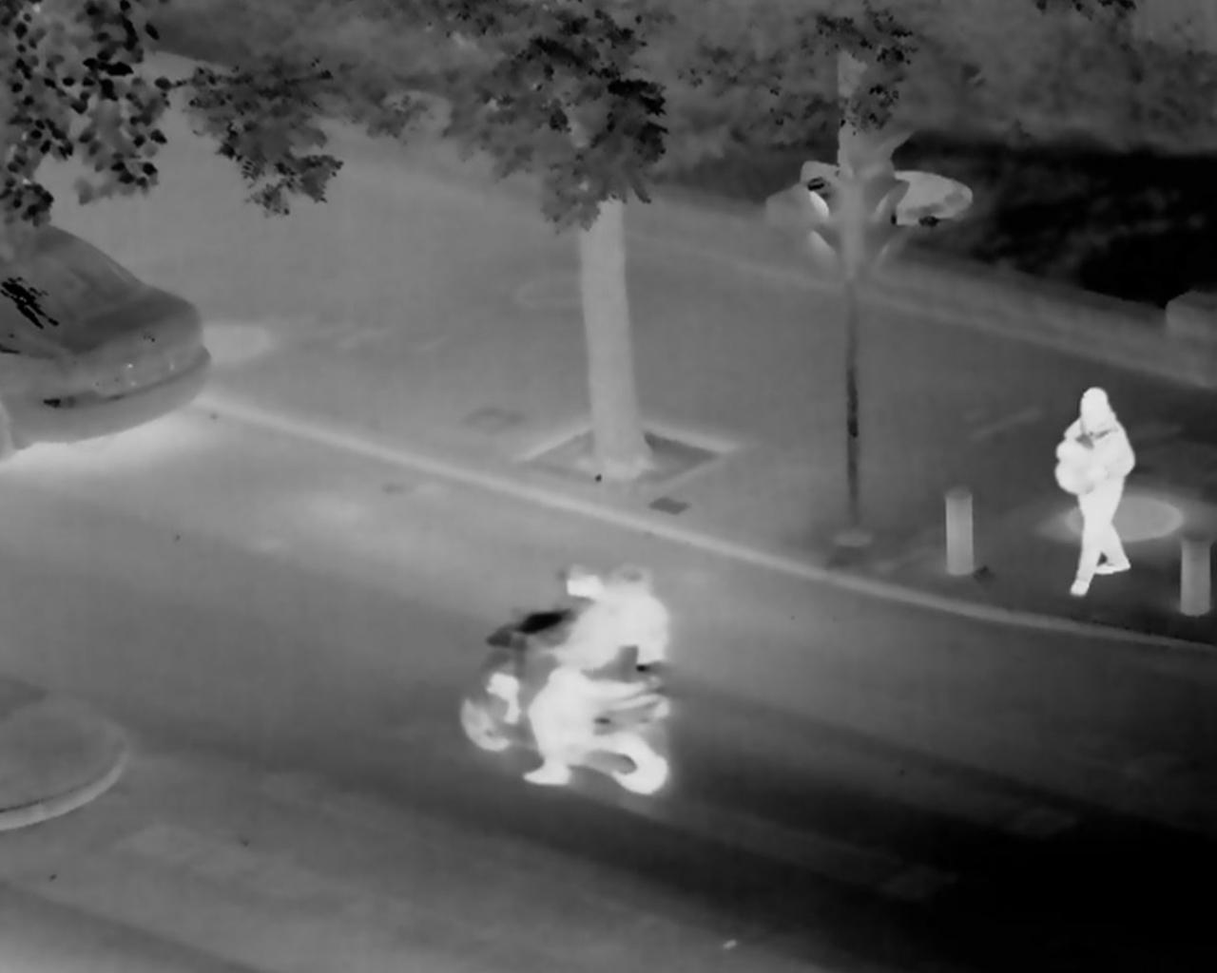person: (512, 555, 609, 790), (1046, 387, 1135, 597)
